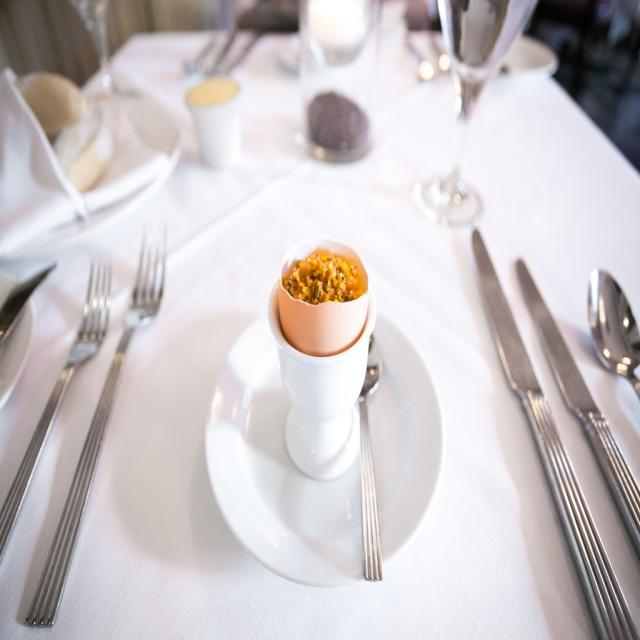non-organic waste: (208, 292, 444, 608)
